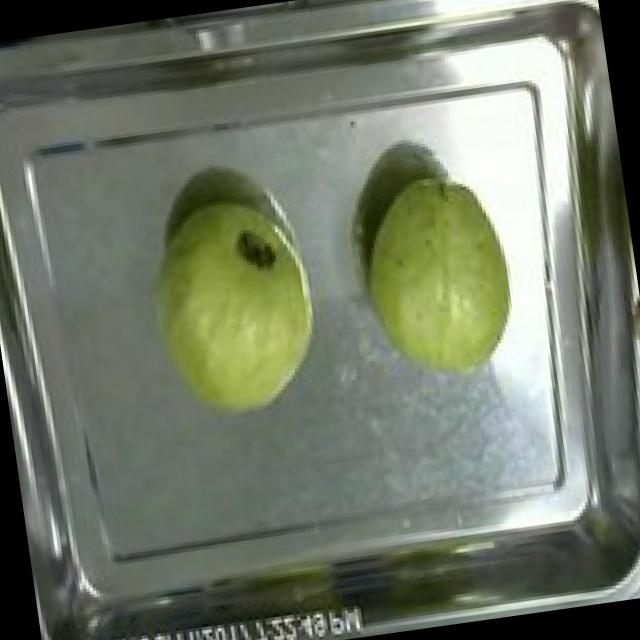Fruit: (126, 180, 339, 436), (342, 158, 534, 394)
